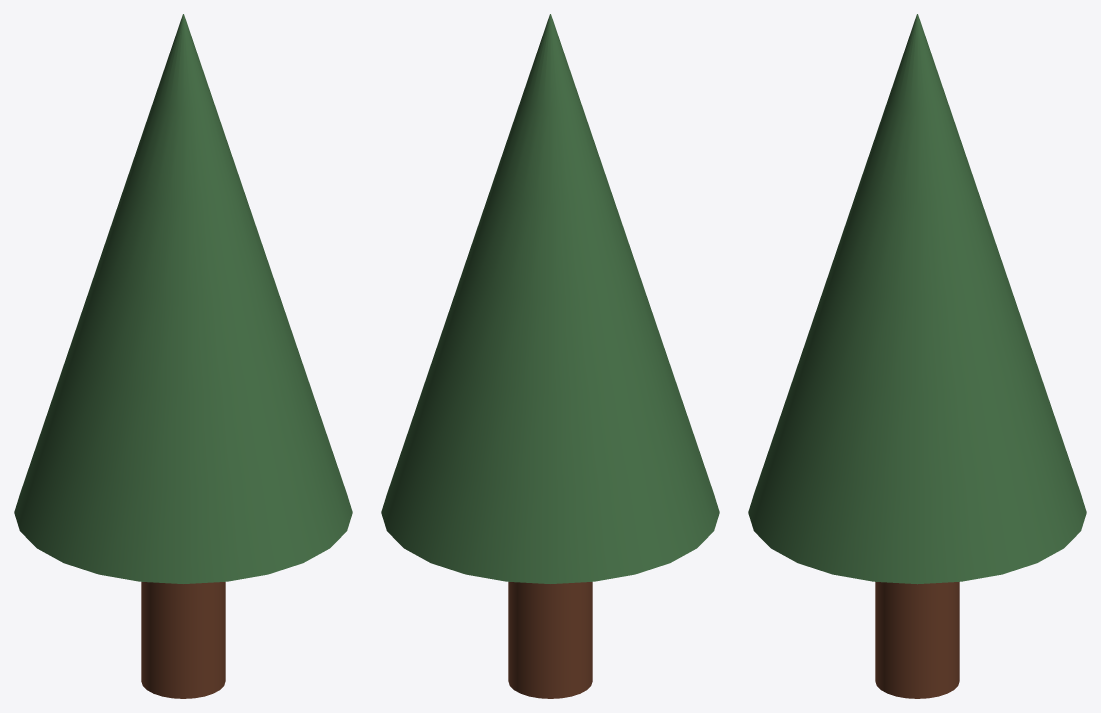
Rendered from tree01.FBX.
3 renders of one model, left to right at view 1: azimuth 30°, elevation 25°; view 2: azimuth 150°, elevation 25°; view 3: azimuth 270°, elevation 25°, orthographic.
Parts seen in each view (by area): view 1: Cylinder01; view 2: Cylinder01; view 3: Cylinder01.
Boxes of the visible parts, x1=… form: Cylinder01: x1=14, y1=14, x2=352, y2=698; Cylinder01: x1=381, y1=14, x2=719, y2=698; Cylinder01: x1=748, y1=14, x2=1086, y2=698.
Bounding box in the file's own units: 79.19 × 172 × 79.19.
